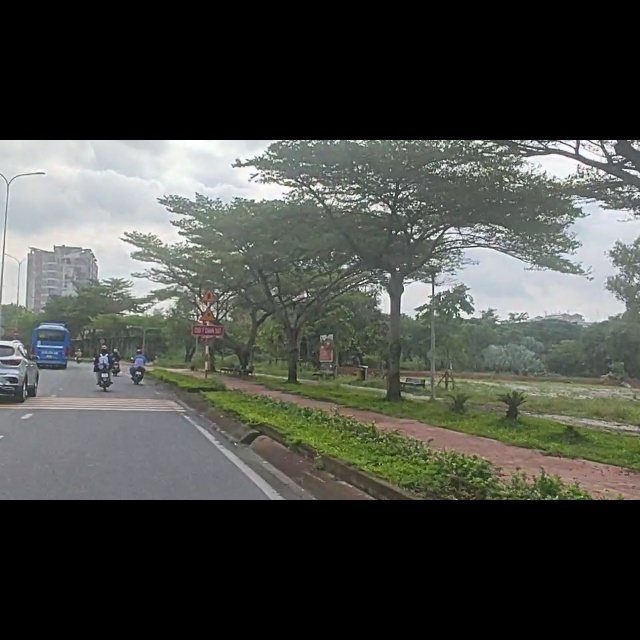bien_nguy_hiem: (197, 296, 220, 324), (199, 260, 218, 289)
